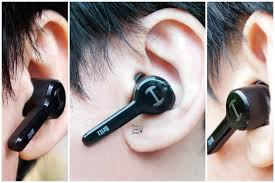earphone: (83, 8, 204, 154), (209, 10, 273, 178), (7, 9, 69, 160)
